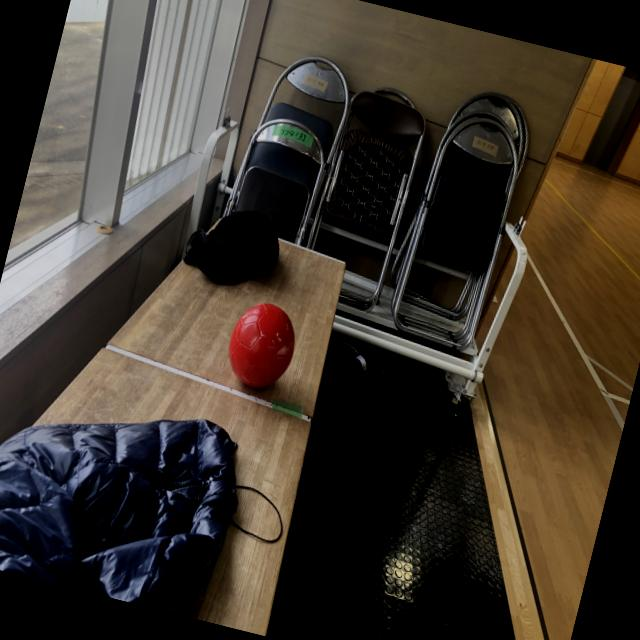red_ball: (219, 294, 304, 396)
